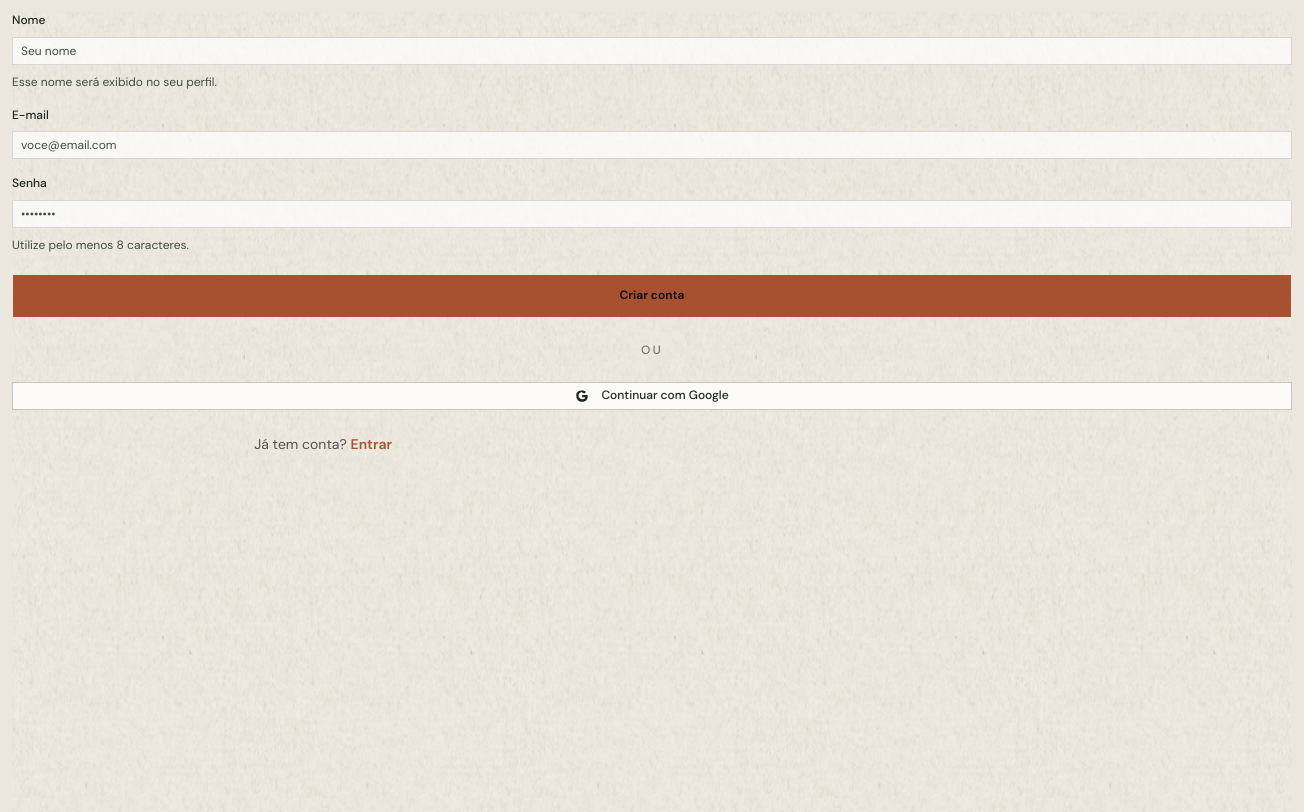
Test: SignUpForm › exibe erro inesperado quando signUp.email lança exceção
Type "Douglas" into the field with placeholder "Seu nome" at (652, 50), box [12,36,1292,64]
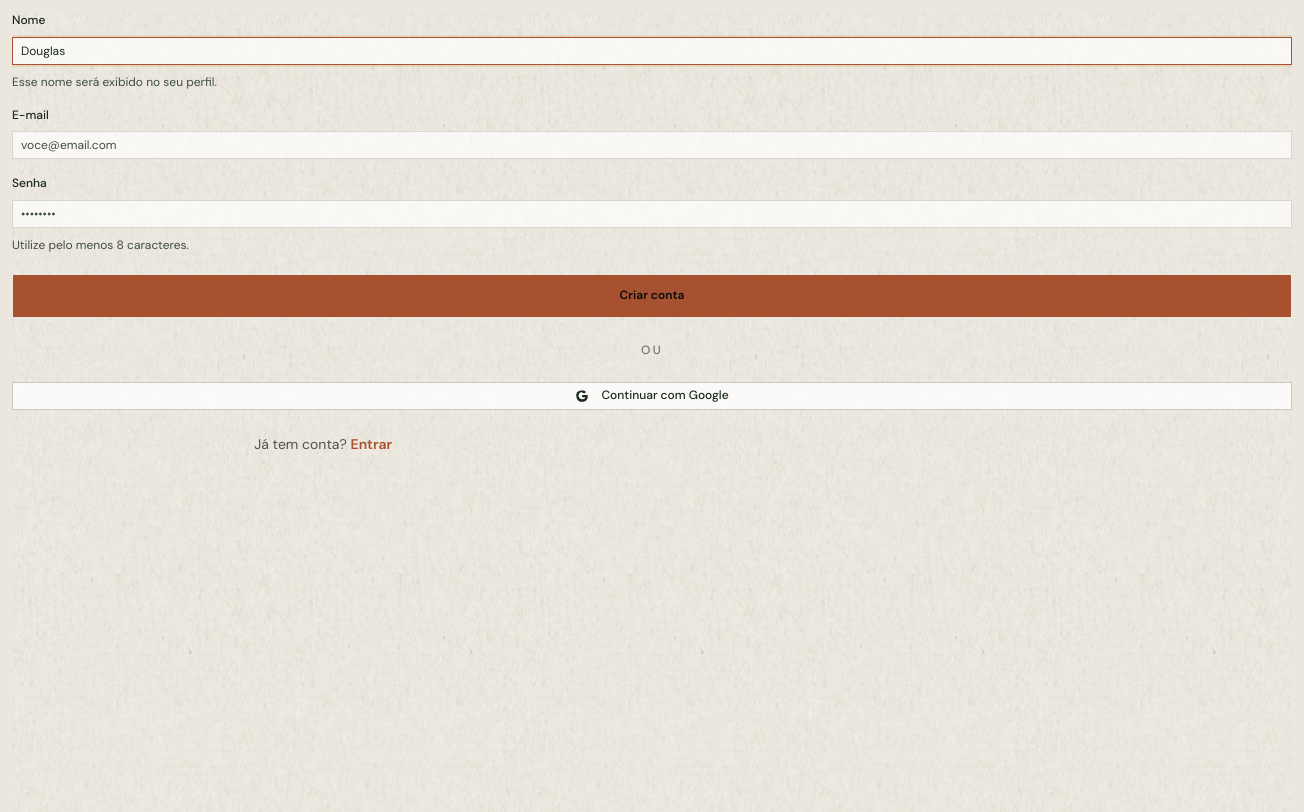
Type "douglas@email.com" into the field with placeholder "voce@email.com" at (652, 145), box [12,131,1292,159]
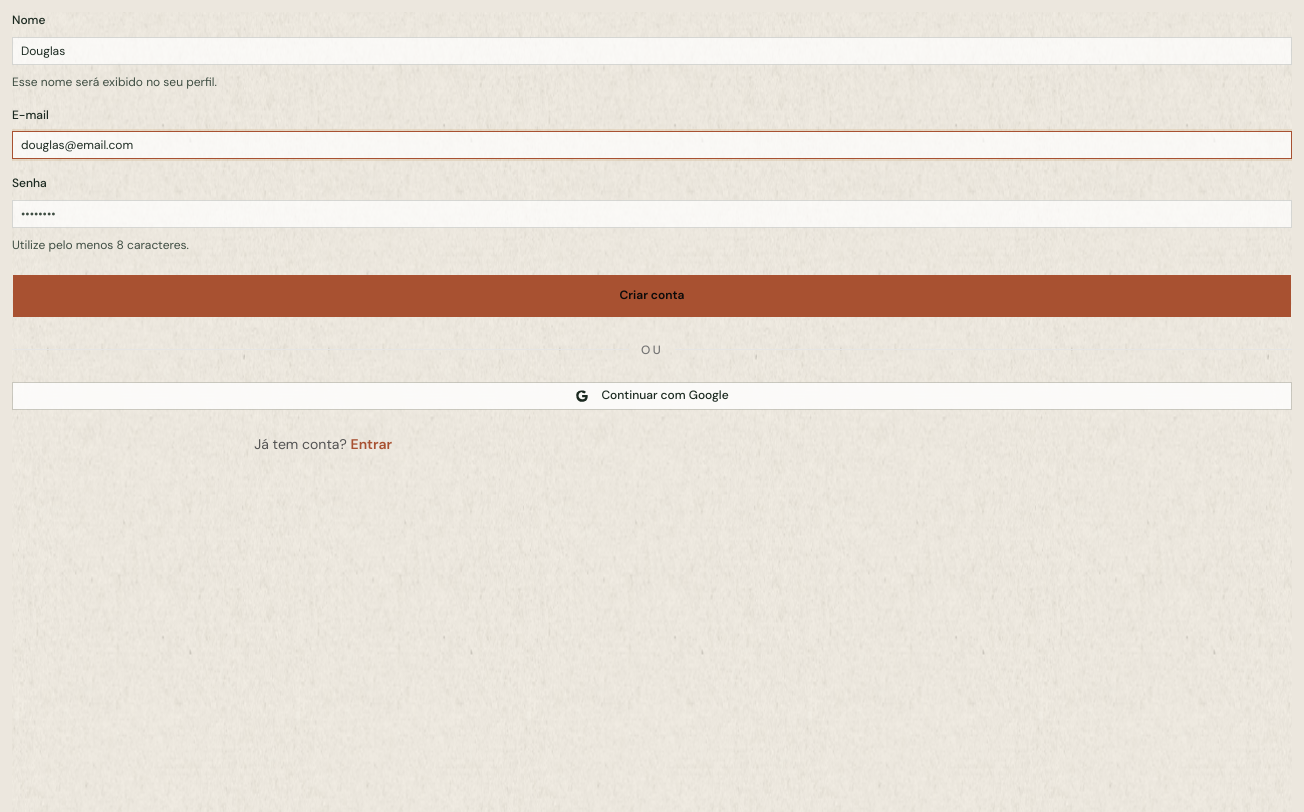
Type "12345678" into the password field with placeholder "••••••••" at (652, 214), box [12,200,1292,228]
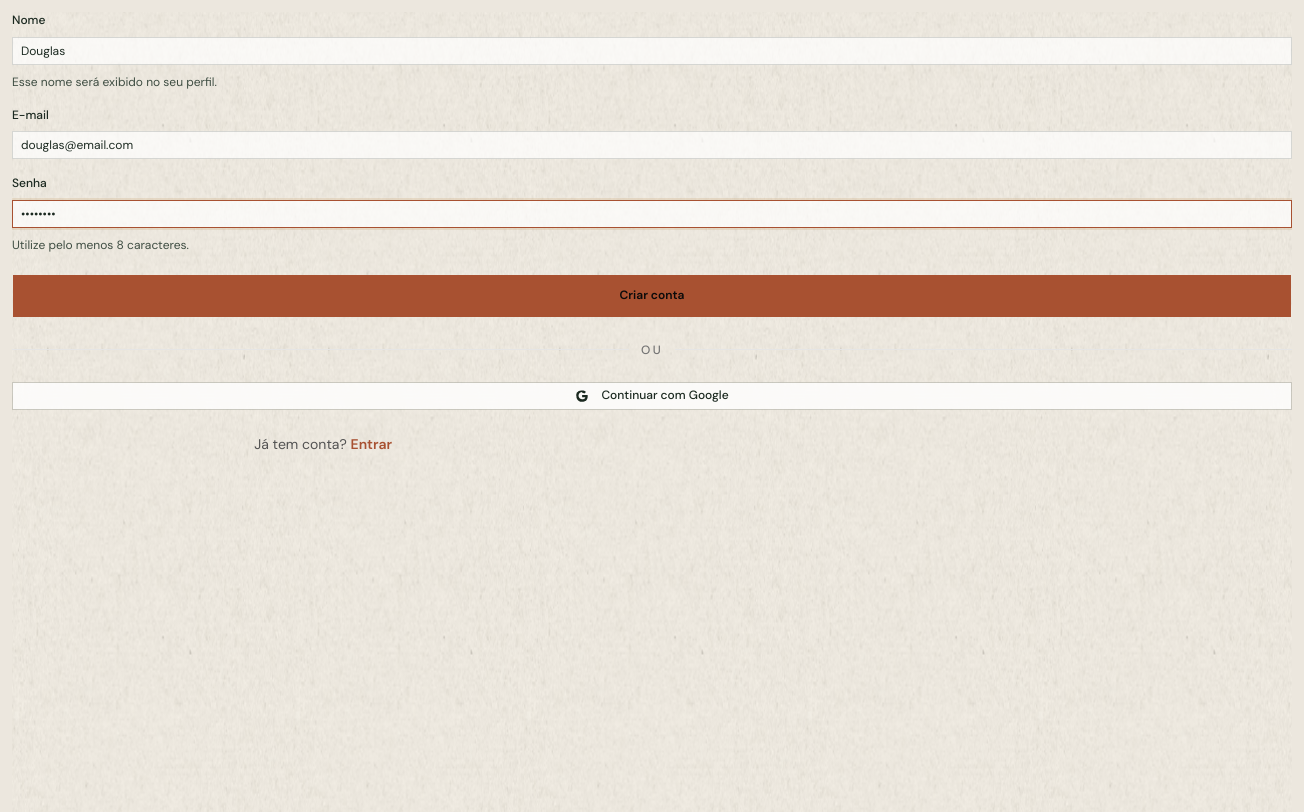
Click the button "Criar conta" at (652, 296), box [12,274,1292,318]
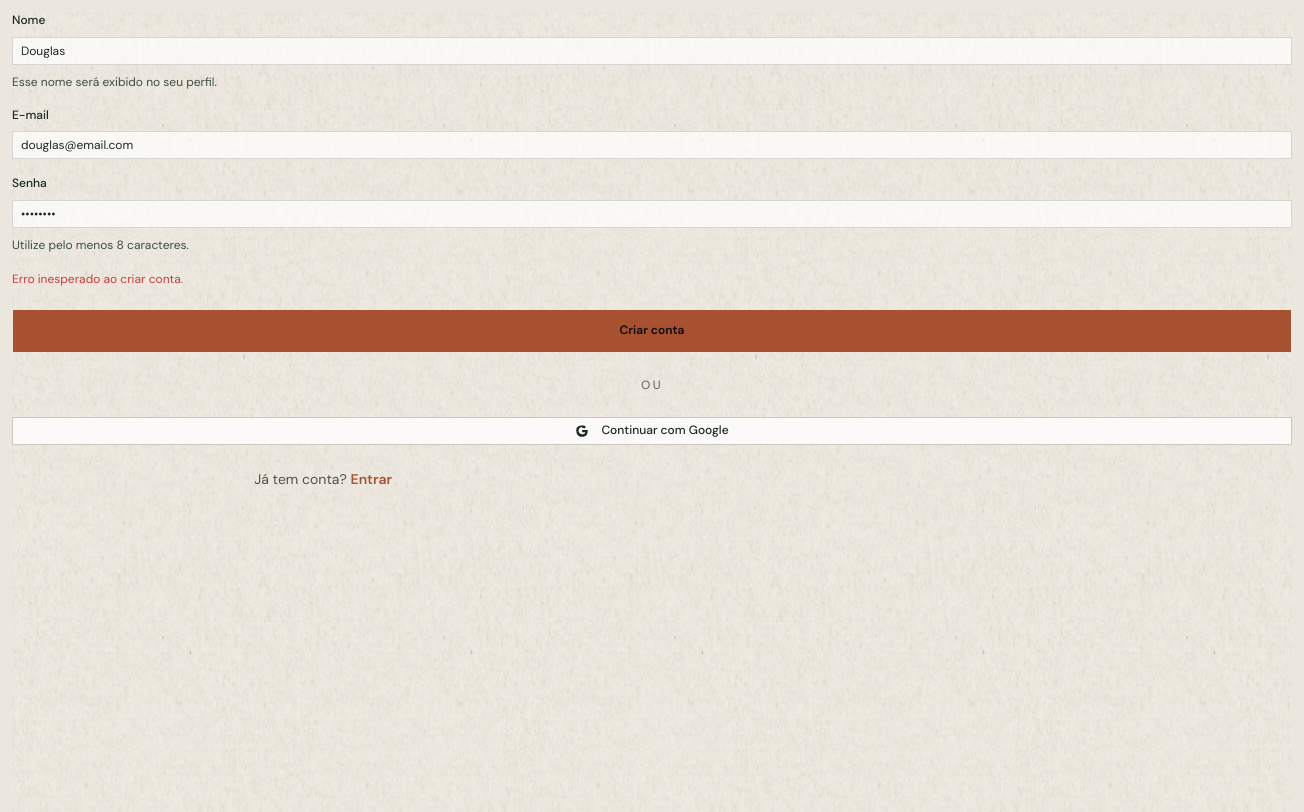
Result: the text "Erro inesperado ao criar conta." is shown at [12,270,183,286]
